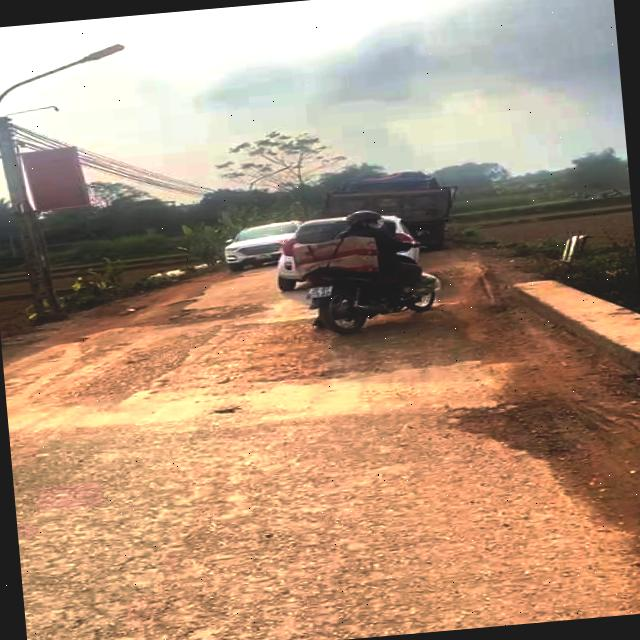pothole: (459, 394, 584, 469), (124, 289, 272, 330)
